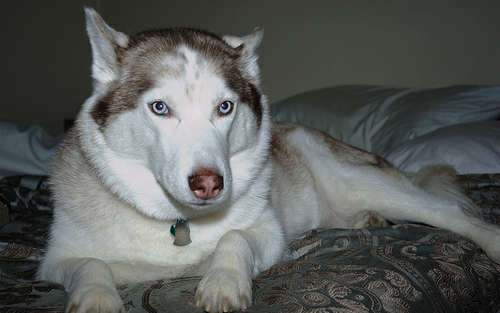dog: (40, 5, 499, 312)
